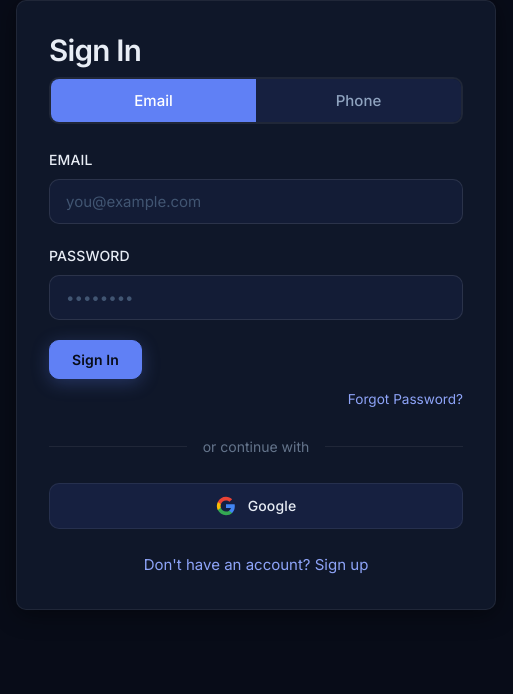
Scenario: Login Page › Email Login › shows error on login failure
In the field labelled "Email": (256, 201) [49,179,463,224], type "test@example.com"
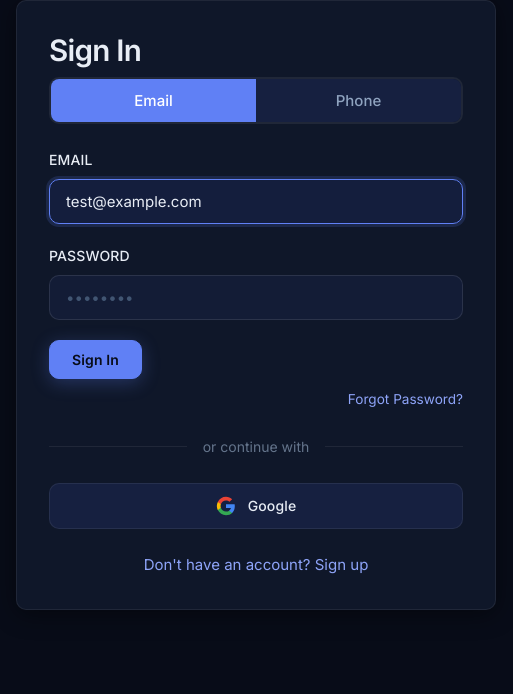
In the password field labelled "Password": (256, 297) [49,275,463,320], type "wrongpass1"
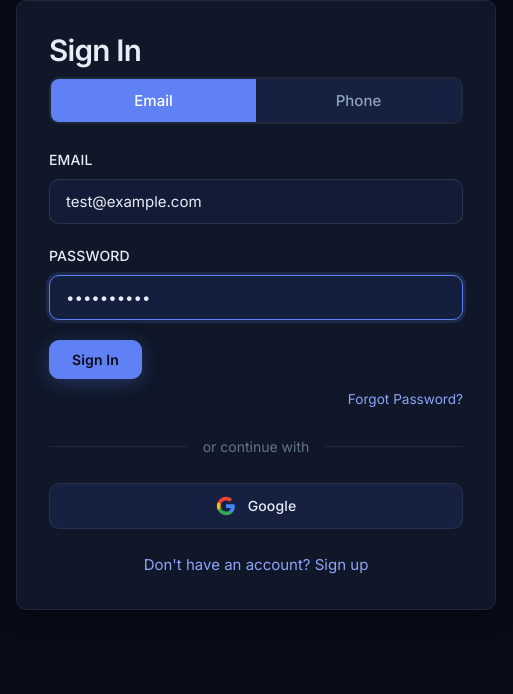
Click the button "Sign In": (96, 359) [49,340,142,379]
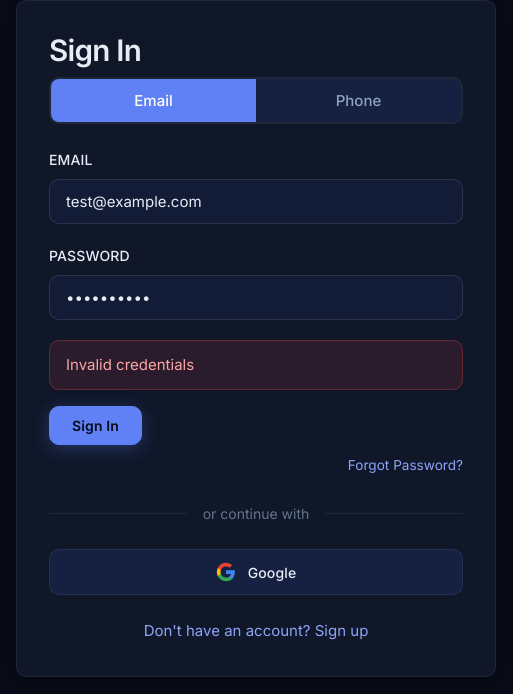
Now the message reads "Invalid credentials", box [66,355,194,374]
